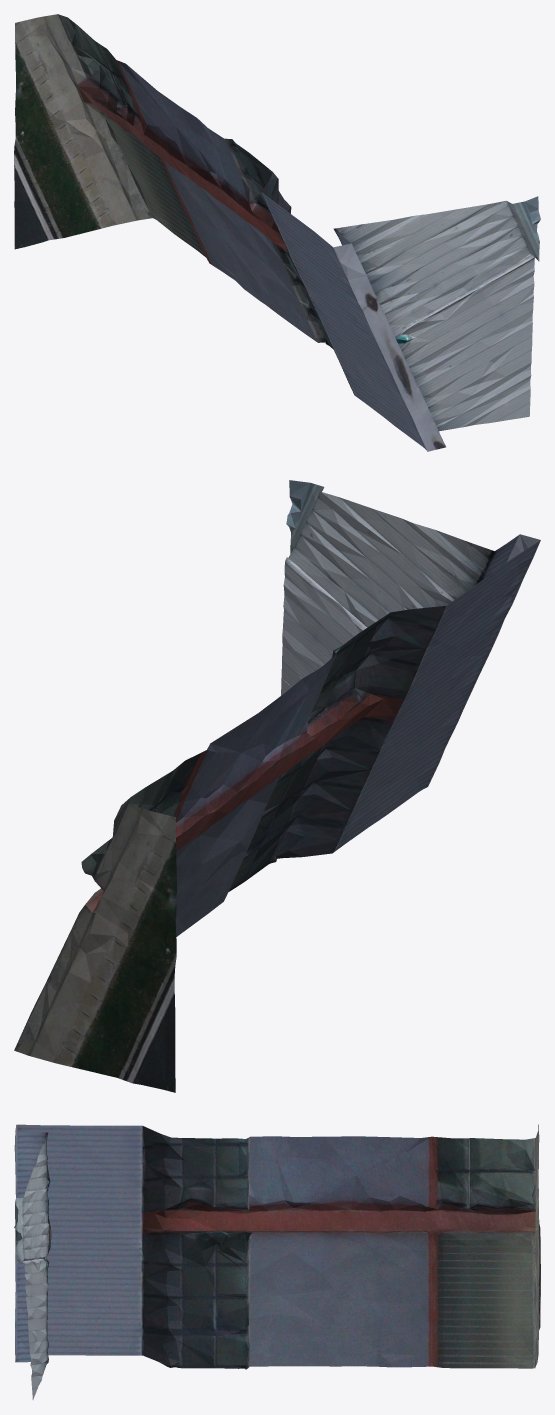
File: Tile_+004_+006_L21_0023.obj
3 renders of one model, top to bottom at view 1: azimuth 30°, elevation 25°; view 2: azimuth 150°, elevation 25°; view 3: azimuth 270°, elevation 25°, orthographic. The views are drawn at different scales.
Size of the model in its own units: 7.62 by 7.69 by 19.19.
1 material, 1 textured.
